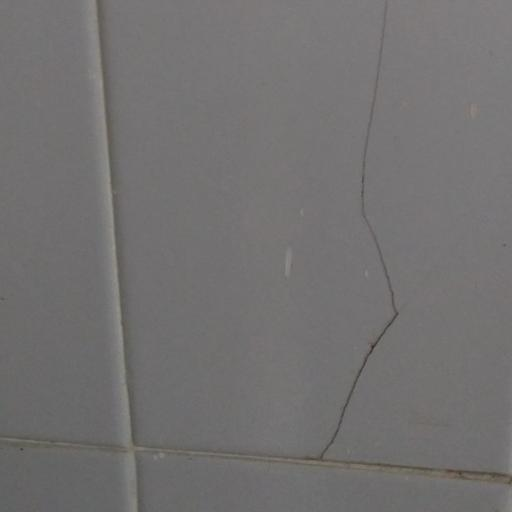minor_crack: (290, 0, 428, 465)
